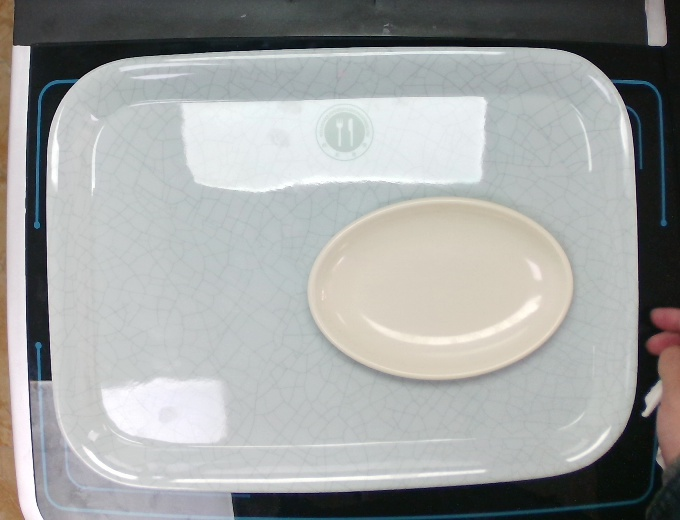JYsf-Tuo_Yuan_Wan: (304, 192, 575, 383)
